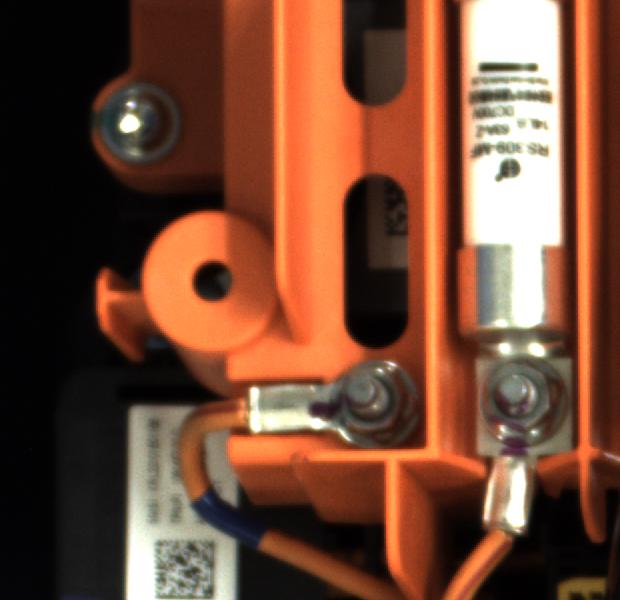screw_m: (89, 77, 196, 175)
screw_s: (310, 353, 423, 449), (470, 351, 579, 448)
